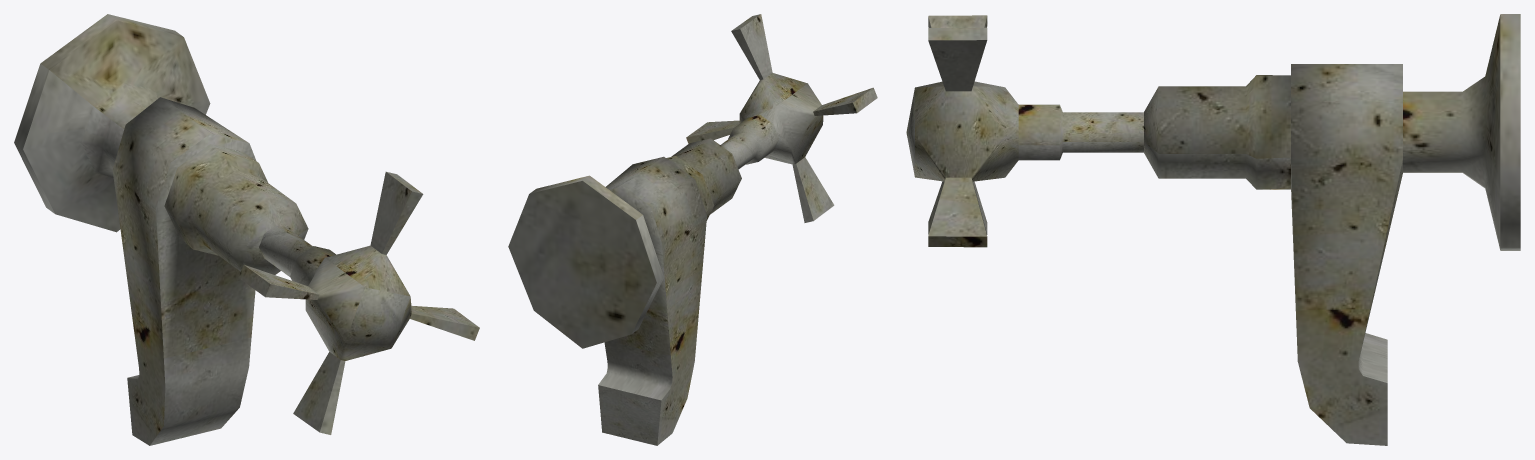
The model's file is furniture_frenchbathfaucet.glb.
3 views of the same model, side by side, from view 1: azimuth 30°, elevation 25°; view 2: azimuth 150°, elevation 25°; view 3: azimuth 270°, elevation 25° (orthographic). The views are drawn at different scales.
Bounding box in the file's own units: 3.07 × 5.12 × 6.77.
1 material, 1 textured.
